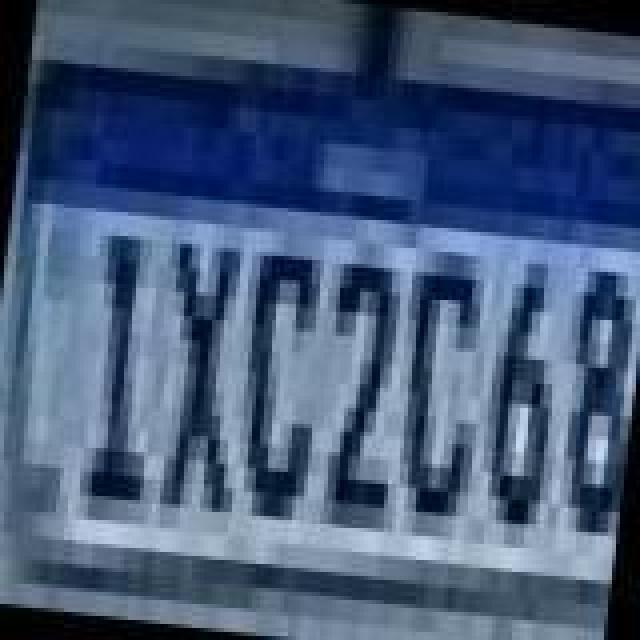2: (308, 250, 420, 534)
6: (470, 244, 570, 540)
8: (546, 256, 638, 544)
C: (228, 242, 340, 526), (388, 242, 500, 526)
I: (76, 212, 180, 516)
X: (146, 226, 270, 526)
